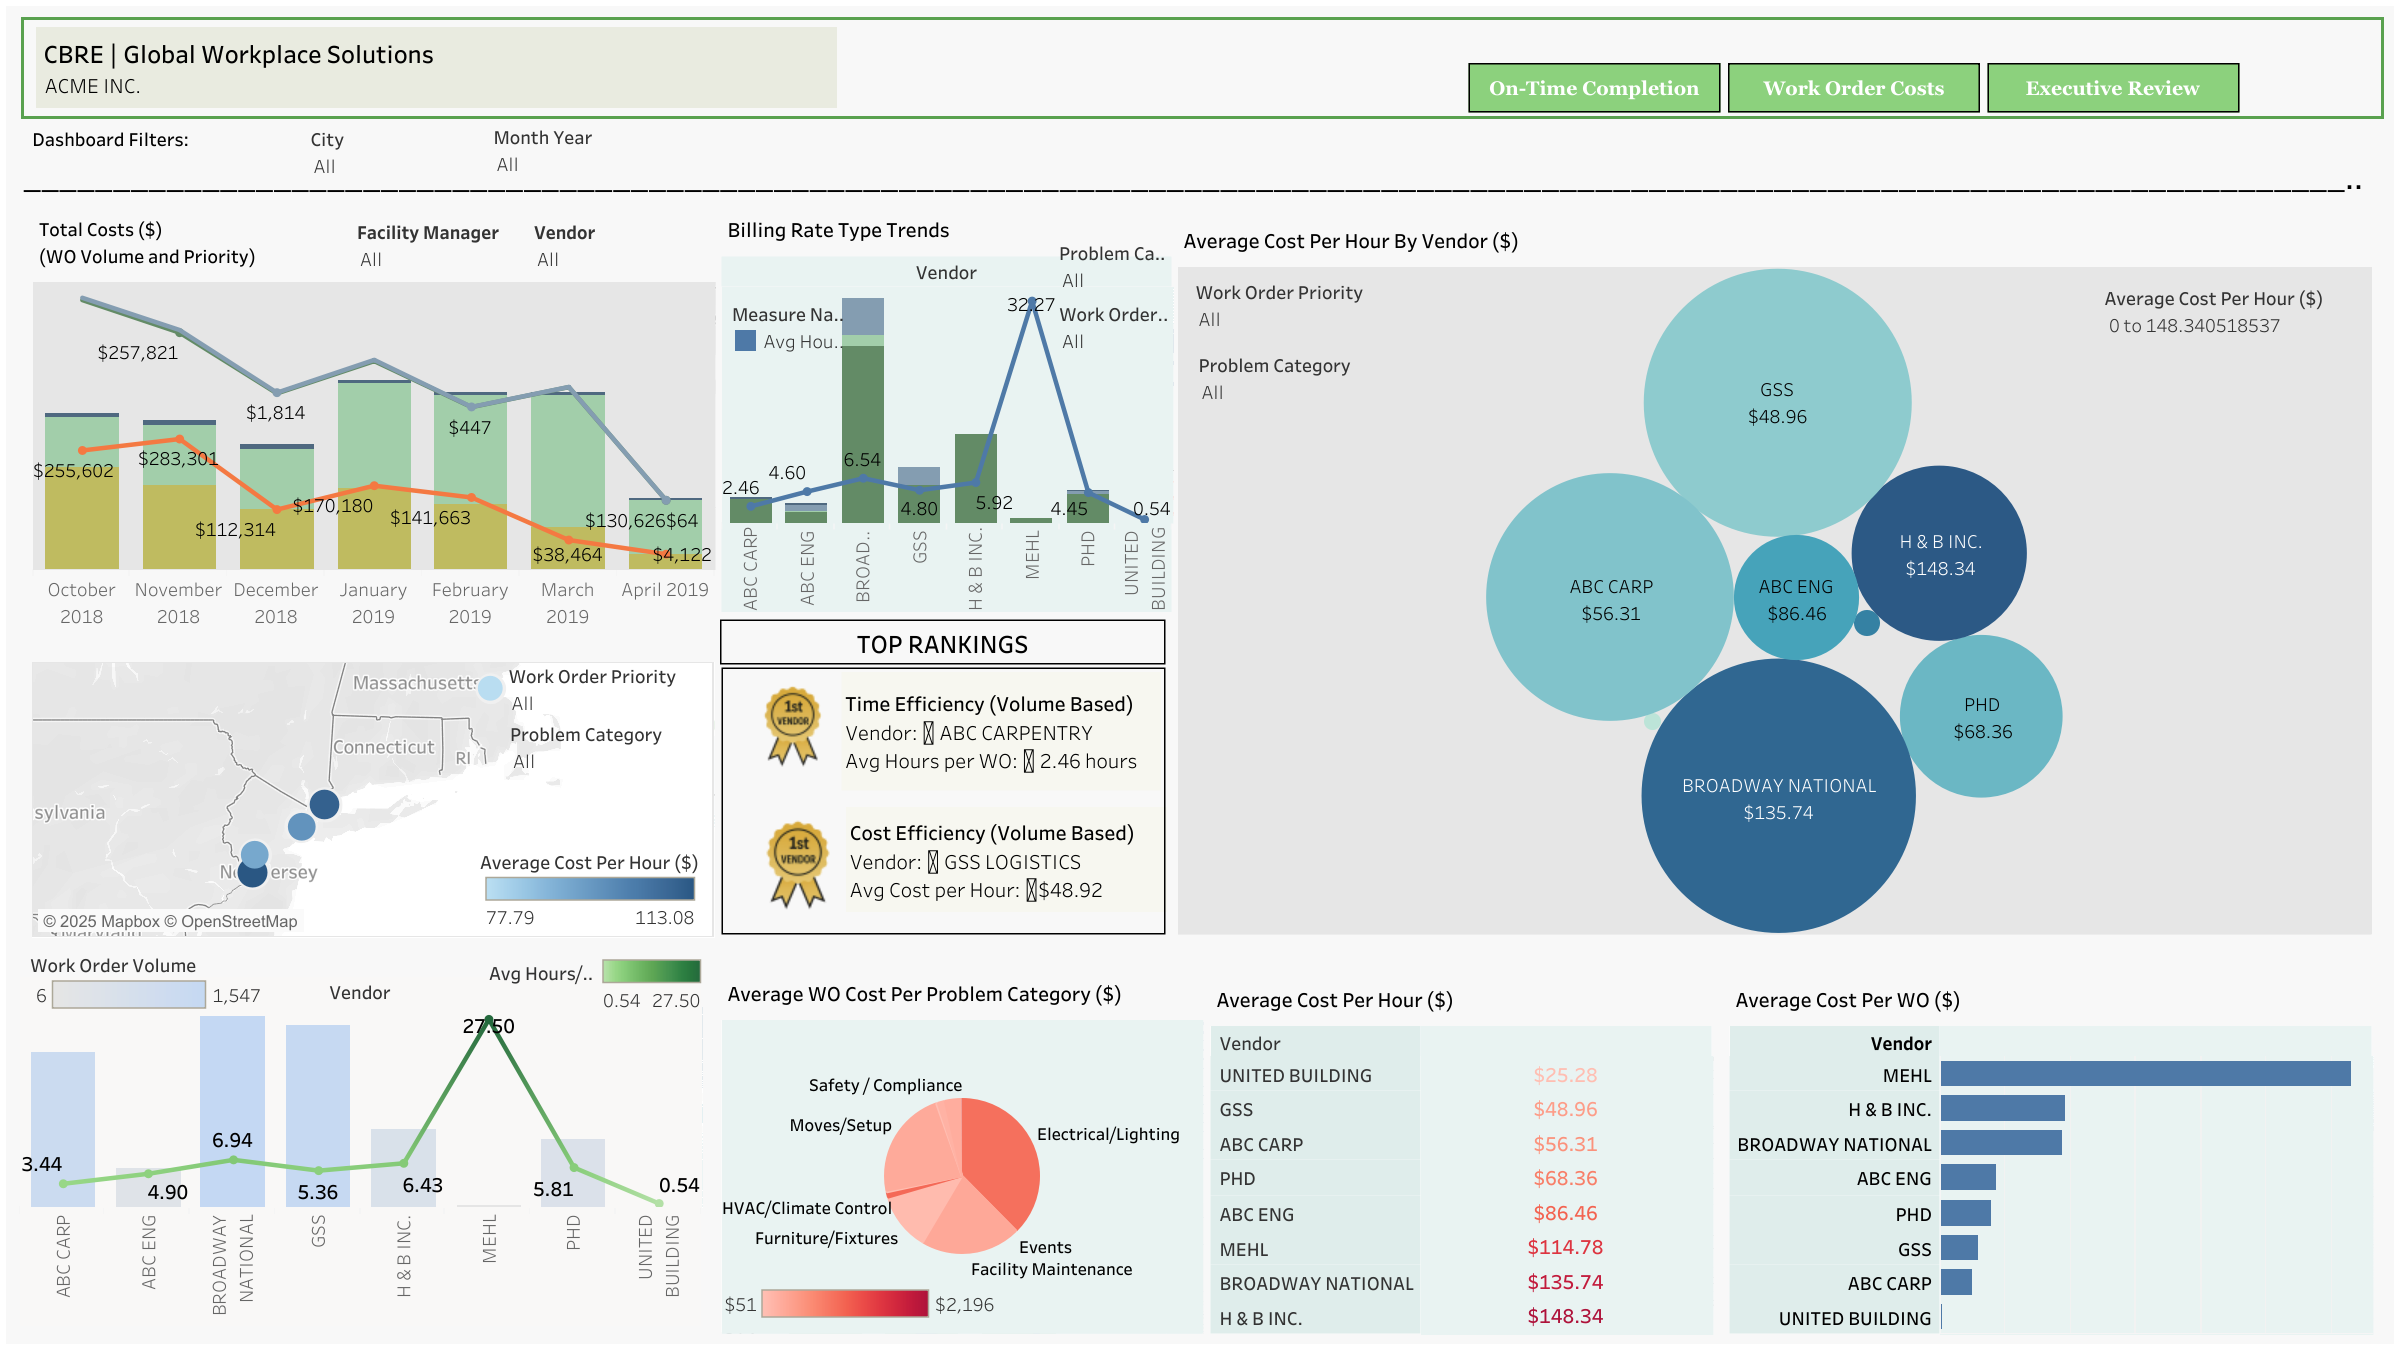

Layout of this report page (visuals, bound fields, positions):
{"tool":"tableau","page":{"name":"Work Order Costs Analysis","canvas":[1600,900],"ordinal":2},"visuals":[{"type":"blank","box":[0,0,1600,900]},{"type":"text","box":[14,11,1575,69]},{"type":"blank","box":[24,18,534.4,54]},{"type":"dashboard-object","box":[979.2,41.6,168,33.8]},{"type":"dashboard-object","box":[1152,41.6,168,33.8]},{"type":"dashboard-object","box":[1324.8,41.6,168,33.8]},{"type":"text","box":[19.2,75.4,176,33.8]},{"type":"filter","title":"Map - Avg Costs By Store","param":"[federated.10plz2p0urz7om14d5ykq0hs0hhh].[my:Calculation_14707101945446400:ok]","box":[329,81,131,55]},{"type":"filter","title":"Map - Avg Costs By Store","param":"[federated.10plz2p0urz7om14d5ykq0hs0hhh].[none:City:nk]","box":[207,82,115,46]},{"type":"text","box":[13,101,1571,33]},{"type":"worksheet","title":"Total Costs (M-O-M) Overview","mark":"Bar","rows":["Calculation_1125933997027391","Calculation_1125933884473355"],"cols":["Calculation_14707101945446400"],"box":[18,133,462,290]},{"type":"worksheet","title":"Billing Rate Type Trends","mark":"Automatic","rows":["Calculation_1125933884473355","Calculation_14284890150178865"],"cols":["Vendor"],"box":[481,137,300,271]},{"type":"worksheet","title":"Vendor Cost Peformance","mark":"Circle","box":[781,140,803,486]},{"type":"filter","title":"Total Costs (M-O-M) Overview","param":"[federated.10plz2p0urz7om14d5ykq0hs0hhh].[none:FM:nk]","box":[238,144,113,43]},{"type":"filter","title":"Total Costs (M-O-M) Overview","param":"[federated.10plz2p0urz7om14d5ykq0hs0hhh].[none:Vendor:nk]","box":[356,144,108,50]},{"type":"filter","title":"Billing Rate Type Trends","param":"[federated.10plz2p0urz7om14d5ykq0hs0hhh].[none:Calculation_14355258390188033:nk]","box":[706,158,71,42]},{"type":"filter","title":"Vendor Cost Peformance","param":"[federated.10plz2p0urz7om14d5ykq0hs0hhh].[none:Work Order Priority:nk]","box":[797,184,168,113]},{"type":"filter","title":"Vendor Cost Peformance","param":"[federated.10plz2p0urz7om14d5ykq0hs0hhh].[usr:Calculation_14284890077257766:qk]","box":[1399,184,160,69]},{"type":"legend","title":"Billing Rate Type Trends","param":"[federated.10plz2p0urz7om14d5ykq0hs0hhh].[:Measure Names]","box":[487,198,76,40]},{"type":"filter","title":"Billing Rate Type Trends","param":"[federated.10plz2p0urz7om14d5ykq0hs0hhh].[none:Work Order Priority:nk]","box":[706,199,74,50]},{"type":"filter","title":"Vendor Cost Peformance","param":"[federated.10plz2p0urz7om14d5ykq0hs0hhh].[none:Calculation_14355258390188033:nk]","box":[799,233,168,56]},{"type":"text","box":[480,413,297,30]},{"type":"worksheet","title":"Map - Avg Costs By Store","mark":"Circle","box":[17,437,463,192]},{"type":"filter","title":"Map - Avg Costs By Store","param":"[federated.10plz2p0urz7om14d5ykq0hs0hhh].[none:Work Order Priority:nk]","box":[339,440,130,56]},{"type":"text","box":[481,445,296,178]},{"type":"image","param":"Image/ChatGPT Image Jul 24, 2025, 06_46_12 PM.png","box":[481,446,94,77]},{"type":"text","box":[561,448,213,79]},{"type":"filter","title":"Map - Avg Costs By Store","param":"[federated.10plz2p0urz7om14d5ykq0hs0hhh].[none:Calculation_14355258390188033:nk]","box":[340,479,129,45]},{"type":"image","param":"Image/ChatGPT Image Jul 24, 2025, 06_46_12 PM.png","box":[481,535,102,84]},{"type":"legend","title":"Vendor Avg Cost Per Work Order","param":"[federated.10plz2p0urz7om14d5ykq0hs0hhh].[usr:Calculation_14284890093019178:qk]","box":[1124,536,140,80]},{"type":"text","box":[564,538,214,70]},{"type":"legend","title":"Map - Avg Costs By Store","param":"[federated.10plz2p0urz7om14d5ykq0hs0hhh].[usr:Calculation_14284890077257766:qk]","box":[320,561,148,60]},{"type":"legend","title":"Average Hrs Worked and Volume by Vendor","param":"[federated.10plz2p0urz7om14d5ykq0hs0hhh].[ctd:Ticket ID:qk]","box":[20,630,159,48]},{"type":"legend","title":"Average Hrs Worked and Volume by Vendor","param":"[federated.10plz2p0urz7om14d5ykq0hs0hhh].[usr:Calculation_14284890118000688:qk]","box":[326,636,146,39]},{"type":"worksheet","title":"Avg Cost by Problem Category","mark":"Pie","box":[481,646,320,242]},{"type":"worksheet","title":"Average Hrs Worked and Volume by Vendor","mark":"Automatic","rows":["Ticket ID","Calculation_14284890118000688"],"cols":["Vendor"],"box":[9,647,462,241]},{"type":"worksheet","title":"Vendor Avg Cost Per Hour","mark":"Text","rows":["Vendor"],"box":[807,650,334,239]},{"type":"worksheet","title":"Vendor Avg Cost Per Work Order","mark":"Automatic","rows":["Vendor"],"cols":["Calculation_14284890093019178"],"box":[1153,650,428,239]},{"type":"text","box":[1346,698,25,30]},{"type":"text","box":[1431,698,25,30]},{"type":"text","box":[961,699,25,30]},{"type":"text","box":[1060,699,25,30]},{"type":"text","box":[1156,699,25,30]},{"type":"text","box":[1250,699,25,30]},{"type":"text","box":[1528,700,25,30]},{"type":"text","box":[1179,825,25,30]},{"type":"text","box":[1324,825,25,30]},{"type":"text","box":[1463,825,25,30]},{"type":"text","box":[1037,826,25,30]},{"type":"text","box":[857,827,25,30]},{"type":"legend","title":"Avg Cost by Problem Category","param":"[federated.10plz2p0urz7om14d5ykq0hs0hhh].[usr:Calculation_14284890093019178:qk]","box":[479,856,189,42]}]}

Visuals, with their boxes in screenshot pixels (x1, y1, x2, y2), scaled from the page's 1600x900 canvas onto the 2400x1350 screenshot:
blank: rect(0, 0, 2399, 1349)
text: rect(21, 16, 2384, 120)
blank: rect(36, 27, 838, 108)
dashboard-object: rect(1469, 62, 1721, 113)
dashboard-object: rect(1728, 62, 1980, 113)
dashboard-object: rect(1987, 62, 2239, 113)
text: rect(29, 113, 293, 164)
"Map - Avg Costs By Store" filter: rect(494, 122, 690, 204)
"Map - Avg Costs By Store" filter: rect(310, 123, 483, 192)
text: rect(20, 152, 2376, 201)
"Total Costs (M-O-M) Overview" worksheet (Bar marks): rect(27, 200, 720, 634)
"Billing Rate Type Trends" worksheet: rect(722, 206, 1172, 612)
"Vendor Cost Peformance" worksheet (Circle marks): rect(1172, 210, 2376, 939)
"Total Costs (M-O-M) Overview" filter: rect(357, 216, 526, 280)
"Total Costs (M-O-M) Overview" filter: rect(534, 216, 696, 291)
"Billing Rate Type Trends" filter: rect(1059, 237, 1166, 300)
"Vendor Cost Peformance" filter: rect(1196, 276, 1448, 446)
"Vendor Cost Peformance" filter: rect(2098, 276, 2338, 380)
"Billing Rate Type Trends" legend: rect(730, 297, 844, 357)
"Billing Rate Type Trends" filter: rect(1059, 298, 1170, 374)
"Vendor Cost Peformance" filter: rect(1198, 350, 1450, 434)
text: rect(720, 620, 1166, 664)
"Map - Avg Costs By Store" worksheet (Circle marks): rect(26, 656, 720, 944)
"Map - Avg Costs By Store" filter: rect(508, 660, 704, 744)
text: rect(722, 668, 1166, 934)
image: rect(722, 669, 862, 784)
text: rect(842, 672, 1161, 790)
"Map - Avg Costs By Store" filter: rect(510, 718, 704, 786)
image: rect(722, 802, 874, 928)
"Vendor Avg Cost Per Work Order" legend: rect(1686, 804, 1896, 924)
text: rect(846, 807, 1167, 912)
"Map - Avg Costs By Store" legend: rect(480, 842, 702, 932)
"Average Hrs Worked and Volume by Vendor" legend: rect(30, 945, 268, 1017)
"Average Hrs Worked and Volume by Vendor" legend: rect(489, 954, 708, 1012)
"Avg Cost by Problem Category" worksheet (Pie marks): rect(722, 969, 1202, 1332)
"Average Hrs Worked and Volume by Vendor" worksheet: rect(14, 970, 706, 1332)
"Vendor Avg Cost Per Hour" worksheet (Text marks): rect(1210, 975, 1712, 1334)
"Vendor Avg Cost Per Work Order" worksheet: rect(1730, 975, 2372, 1334)
text: rect(2019, 1047, 2056, 1092)
text: rect(2146, 1047, 2184, 1092)
text: rect(1442, 1048, 1479, 1094)
text: rect(1590, 1048, 1628, 1094)
text: rect(1734, 1048, 1772, 1094)
text: rect(1875, 1048, 1912, 1094)
text: rect(2292, 1050, 2330, 1095)
text: rect(1768, 1238, 1806, 1282)
text: rect(1986, 1238, 2024, 1282)
text: rect(2194, 1238, 2232, 1282)
text: rect(1556, 1239, 1593, 1284)
text: rect(1286, 1240, 1323, 1286)
"Avg Cost by Problem Category" legend: rect(718, 1284, 1002, 1347)
